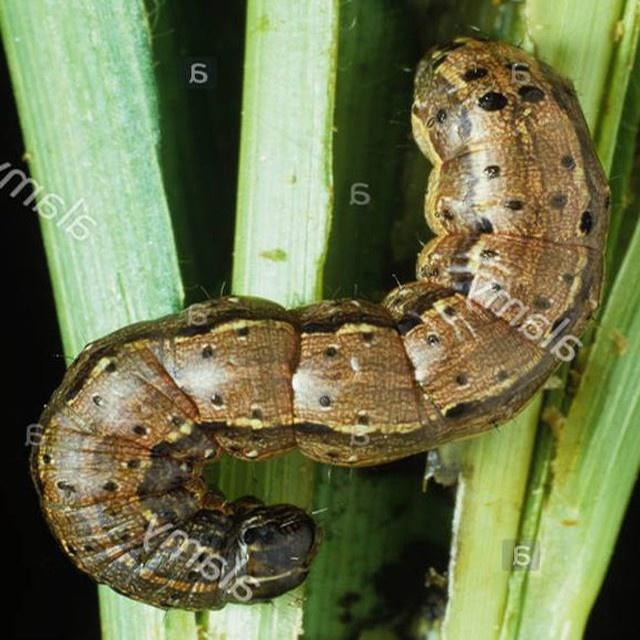gusano_cogollero: (26, 29, 614, 613)
